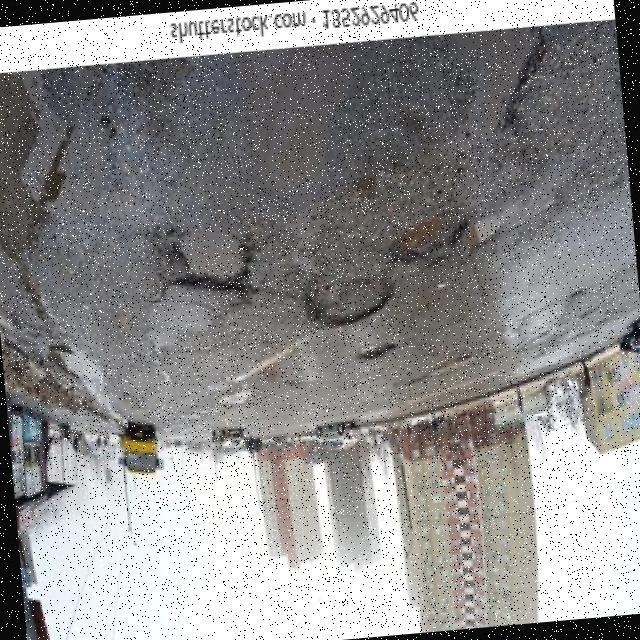Pothole: (309, 276, 398, 330), (172, 234, 250, 289), (390, 213, 462, 263), (360, 342, 394, 358)
